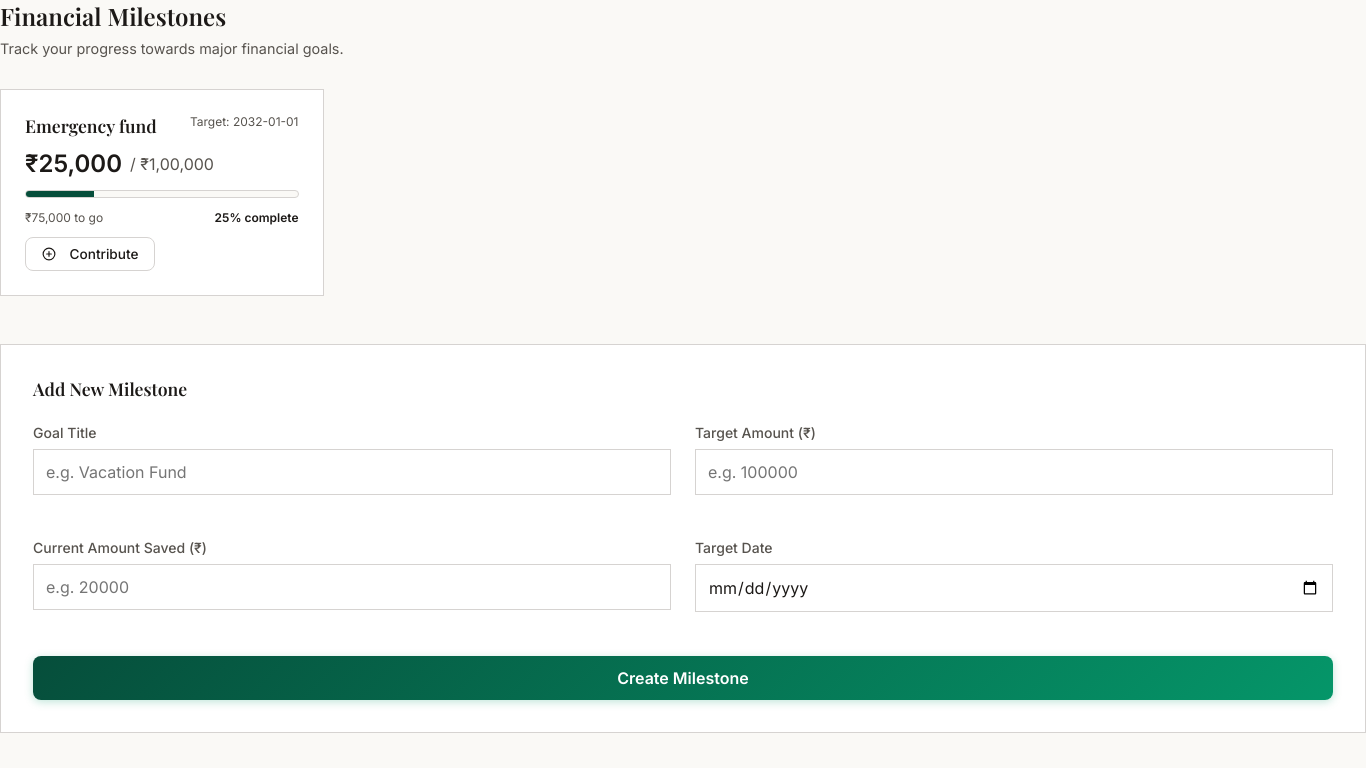
Scenario: Milestones page › accessible dialog semantics › Escape closes the dialog when a save is not in flight
Expected: the heading "Emergency fund" is shown, [25,114,157,137]
Step 1. Click the button "Contribute" → (90, 254), box [25,237,155,271]
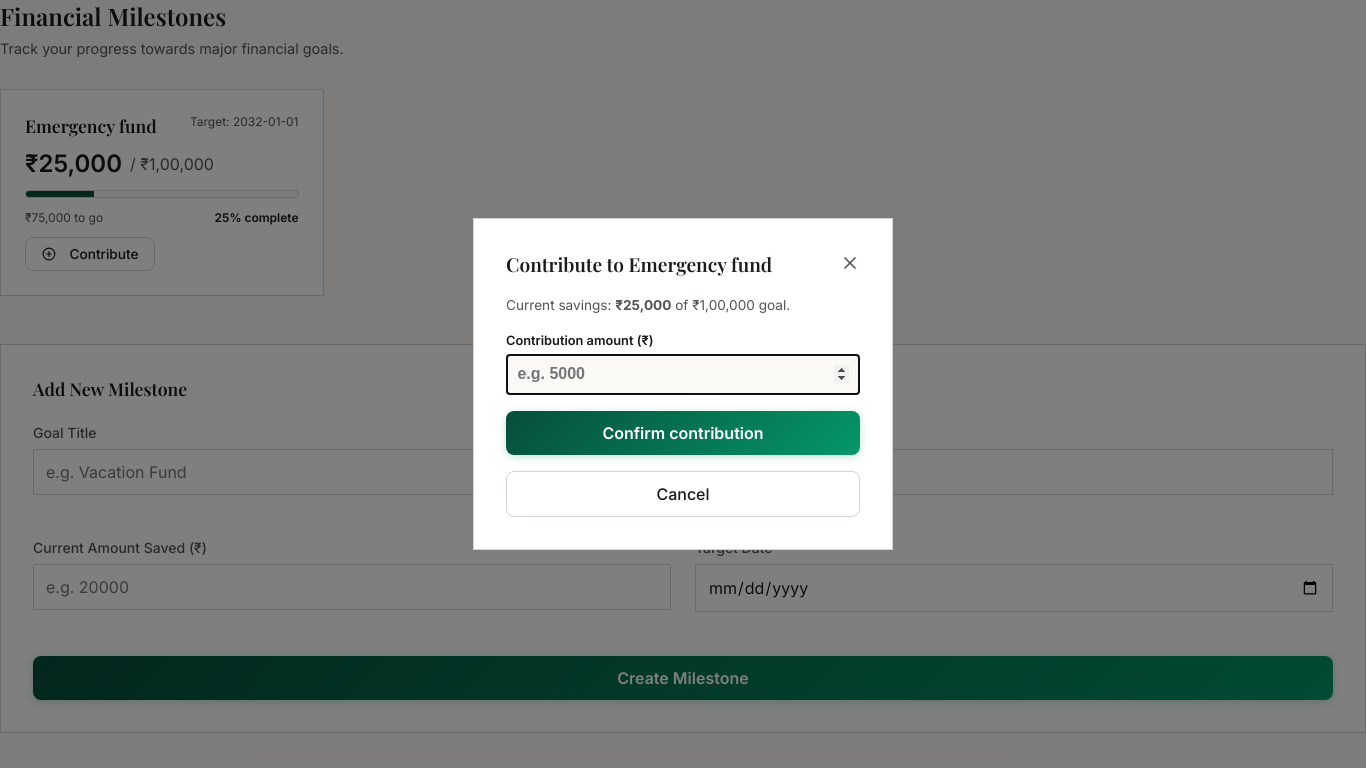
Now the dialog is shown
Step 2. Press Escape
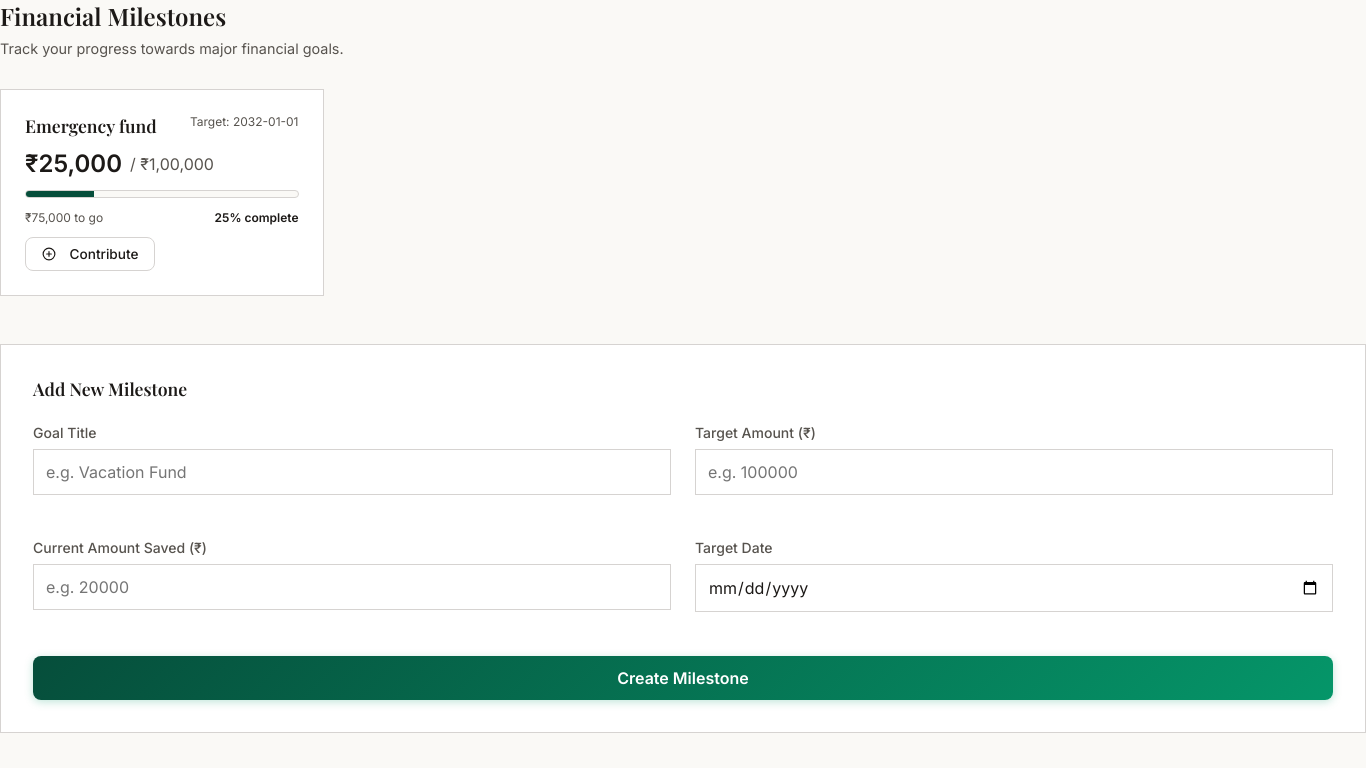
Now the dialog is gone
